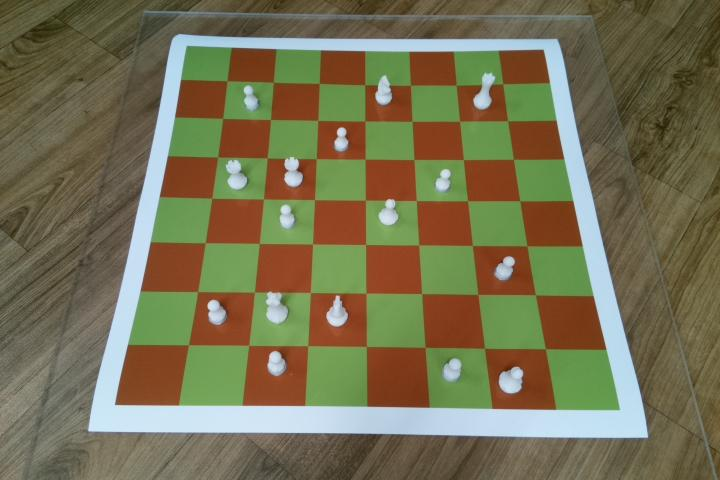chessboard-detect: (116, 45, 622, 411)
